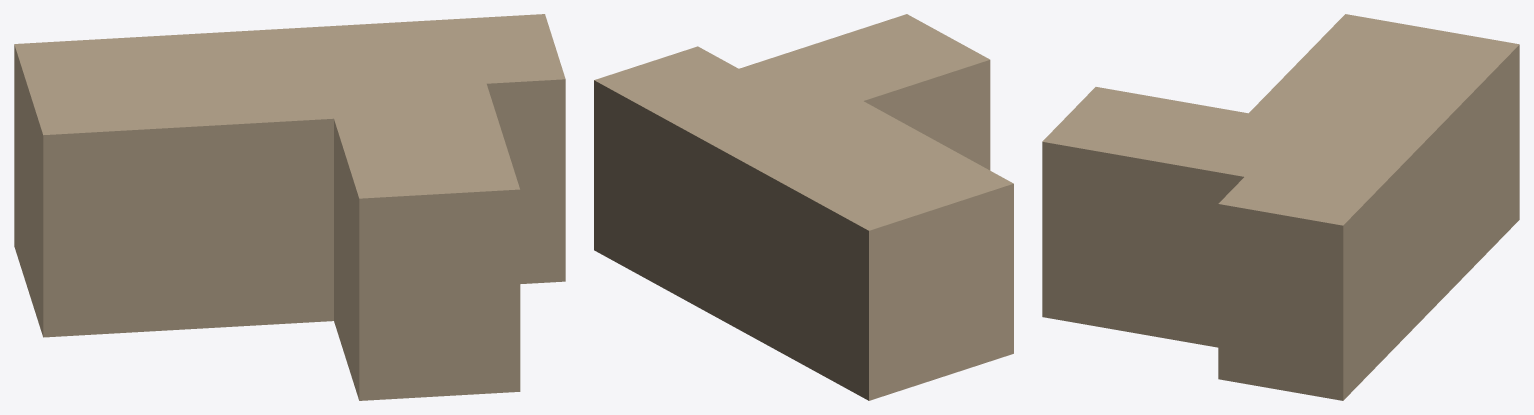
File: bld_99531992.dae
3 renders of one model, left to right at view 1: azimuth 30°, elevation 25°; view 2: azimuth 150°, elevation 25°; view 3: azimuth 270°, elevation 25°, orthographic. The views are drawn at different scales.
Visible parts, largest first — view 1: bld_99531992; view 2: bld_99531992; view 3: bld_99531992.
Boxes of the visible parts, box(x1,y1,x2,y2) form: bld_99531992: box(14, 14, 565, 400); bld_99531992: box(594, 14, 1013, 400); bld_99531992: box(1042, 14, 1519, 400).
Bounding box in the file's own units: 20.71 × 19.75 × 8.
